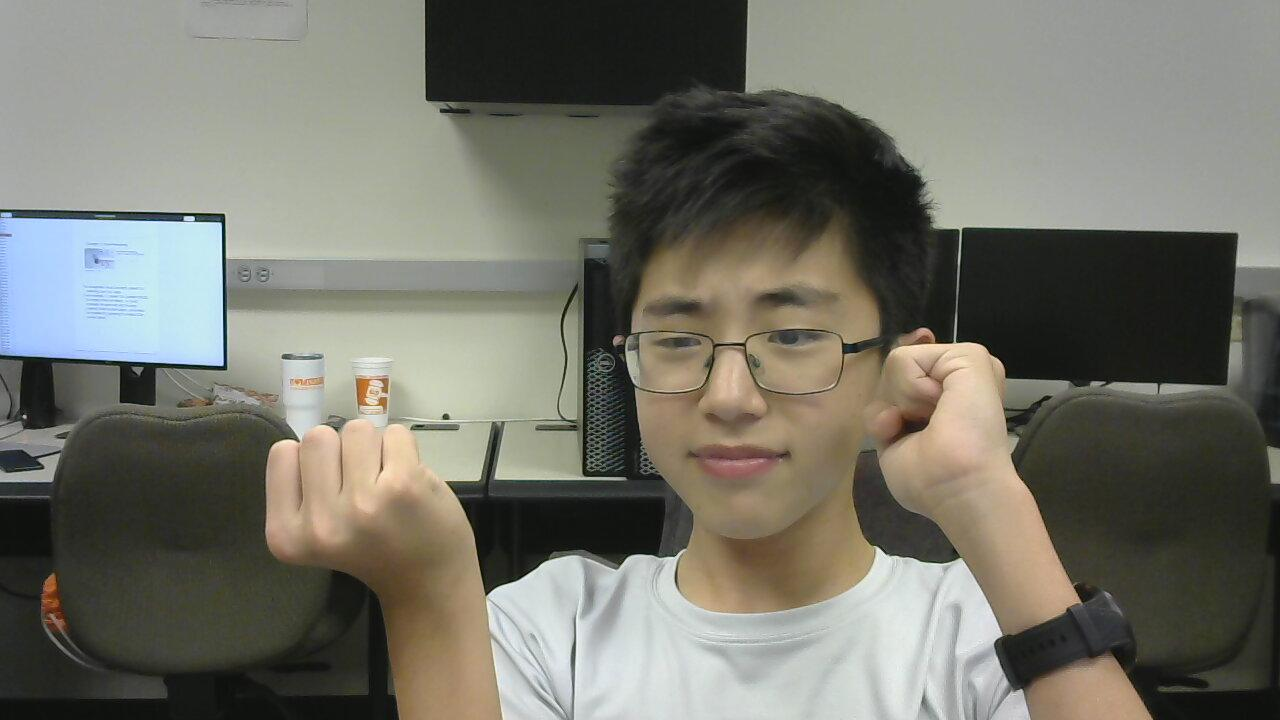fist: (233, 402, 476, 583), (858, 324, 1050, 526)
